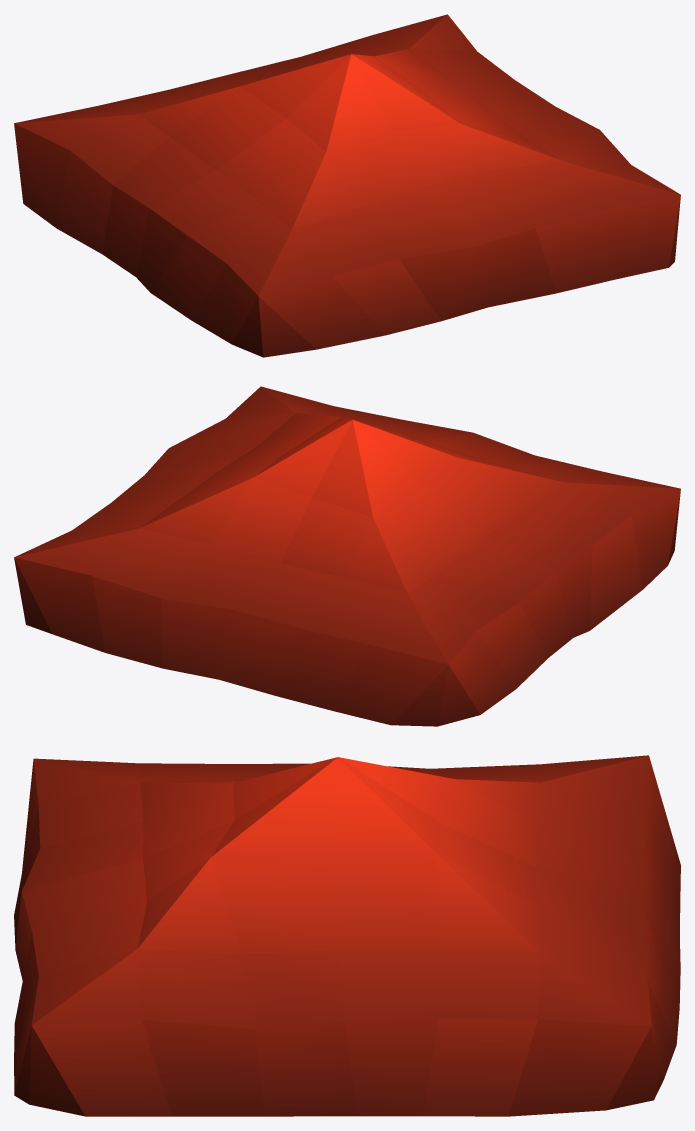
Rendered from SM_Market_Triangular_Fabric_Roof_Red.fbx.
The picture shows the model from 3 angles, top to bottom: view 1: azimuth 30°, elevation 25°; view 2: azimuth 150°, elevation 25°; view 3: azimuth 270°, elevation 25°; orthographic projection. The views are drawn at different scales.
Parts seen in each view (by area): view 1: Market_Triangular_Fabric_Roof_Red_Mash; view 2: Market_Triangular_Fabric_Roof_Red_Mash; view 3: Market_Triangular_Fabric_Roof_Red_Mash.
Boxes of the visible parts, left/top/right/bottom form: Market_Triangular_Fabric_Roof_Red_Mash: left=14, top=14, right=680, bottom=357; Market_Triangular_Fabric_Roof_Red_Mash: left=14, top=386, right=680, bottom=726; Market_Triangular_Fabric_Roof_Red_Mash: left=14, top=755, right=680, bottom=1116.
Size of the model in its own units: 3.76 by 1.35 by 3.67.
